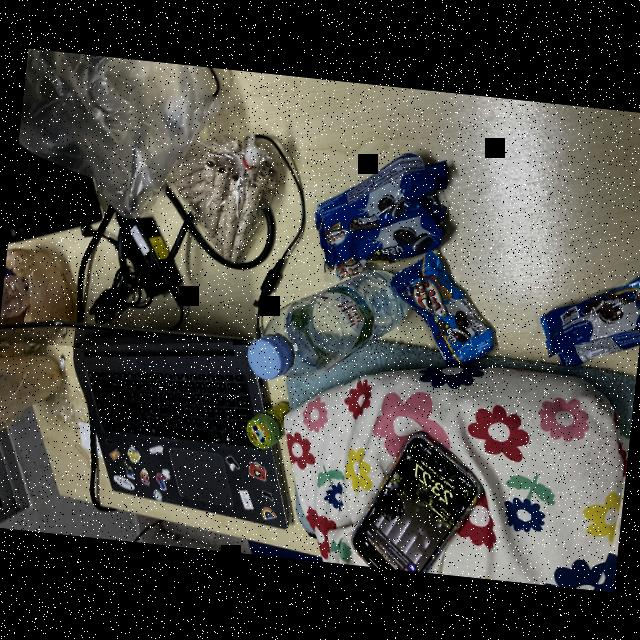plastic_bag: (10, 48, 222, 228), (0, 243, 81, 344), (0, 336, 65, 441)
plastic_bottle: (240, 252, 417, 394)
plastic_bottle_cap: (231, 324, 294, 378)
snack_bag: (151, 126, 284, 262), (305, 144, 464, 242), (380, 252, 499, 369), (530, 259, 640, 379), (316, 192, 452, 280)
